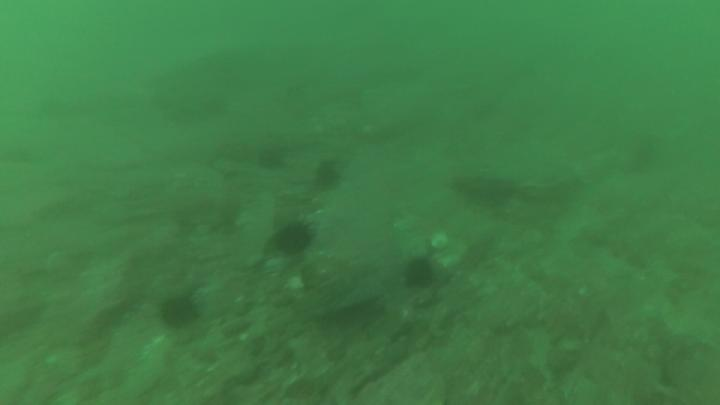echinus: (160, 301, 198, 329), (277, 227, 312, 256), (405, 261, 434, 288), (319, 171, 337, 187)
